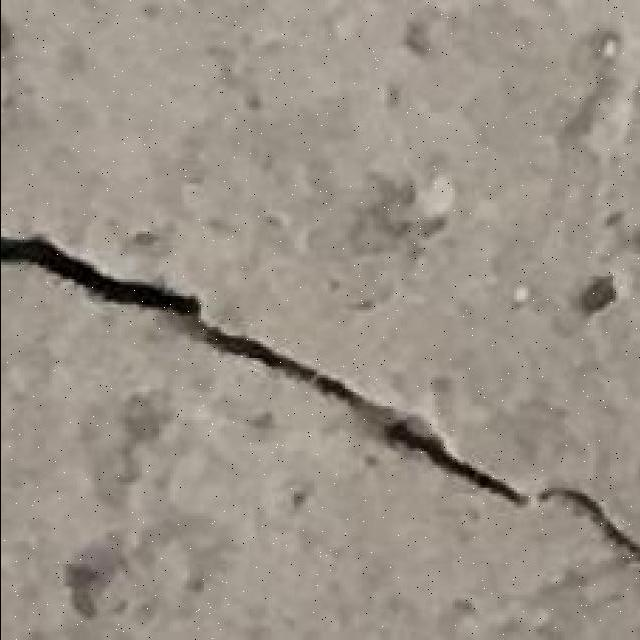crack: (1, 233, 638, 559), (5, 233, 200, 315)
